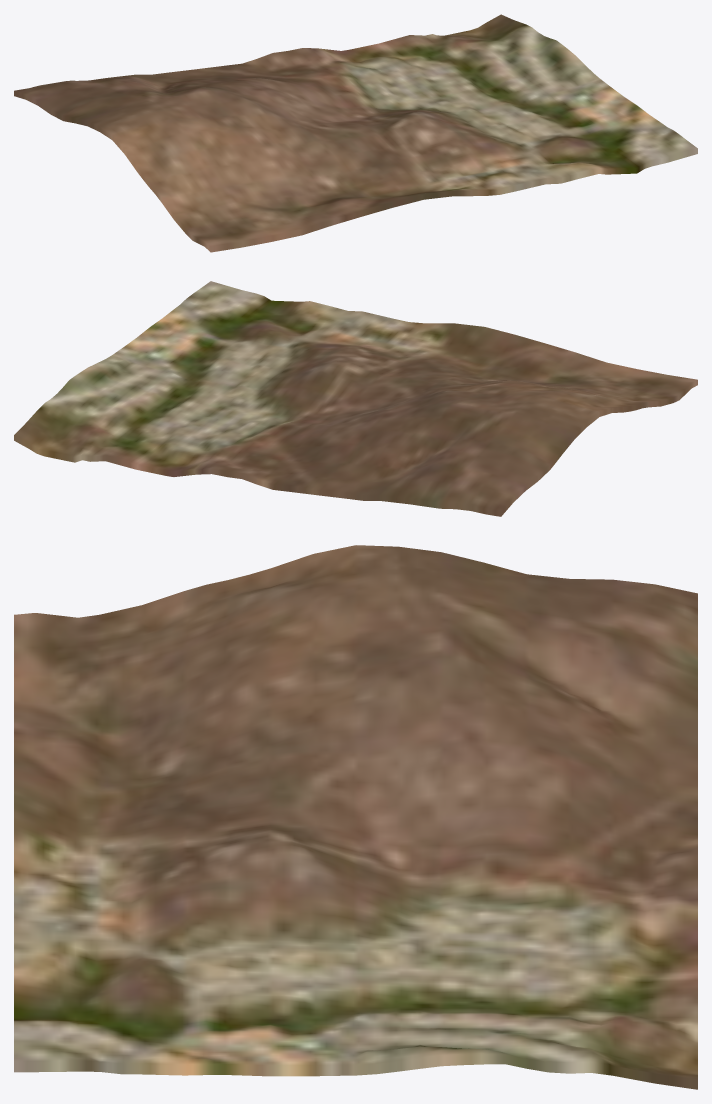
File: terrain_r0_c6_lod2.glb
The picture shows the model from 3 angles, top to bottom: view 1: azimuth 30°, elevation 25°; view 2: azimuth 150°, elevation 25°; view 3: azimuth 270°, elevation 25°; orthographic projection. The views are drawn at different scales.
Parts seen in each view (by area): view 1: terrain_r0_c6_lod2; view 2: terrain_r0_c6_lod2; view 3: terrain_r0_c6_lod2.
Part boxes in pixels (left/top/right/bottom): terrain_r0_c6_lod2: left=14, top=14, right=697, bottom=252; terrain_r0_c6_lod2: left=14, top=281, right=697, bottom=516; terrain_r0_c6_lod2: left=14, top=545, right=697, bottom=1089.
Size of the model in its own units: 1125 by 194 by 787.
1 material, 1 textured.
